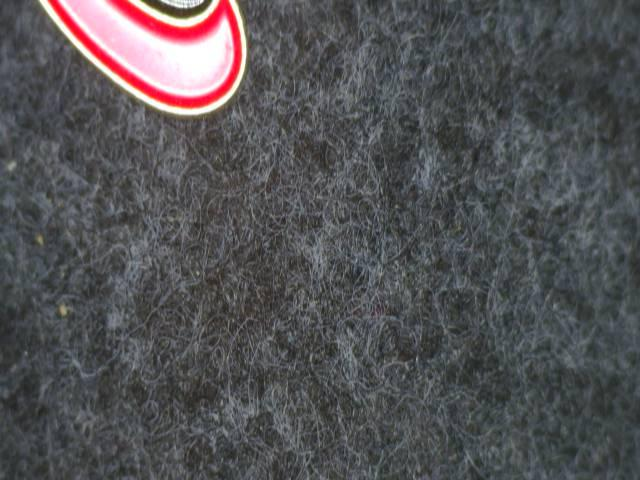Red-Hat: (22, 0, 266, 157)
